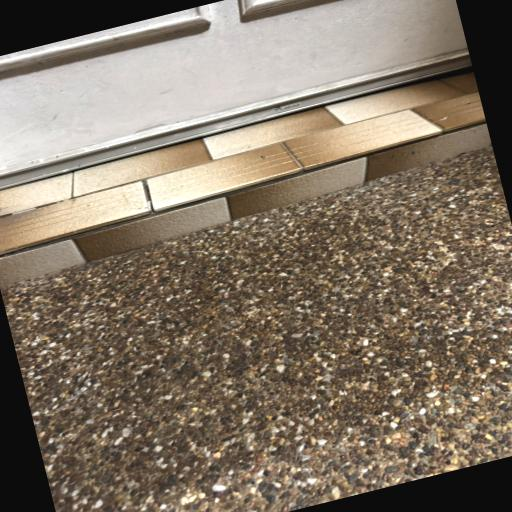step: (0, 72, 492, 290)
